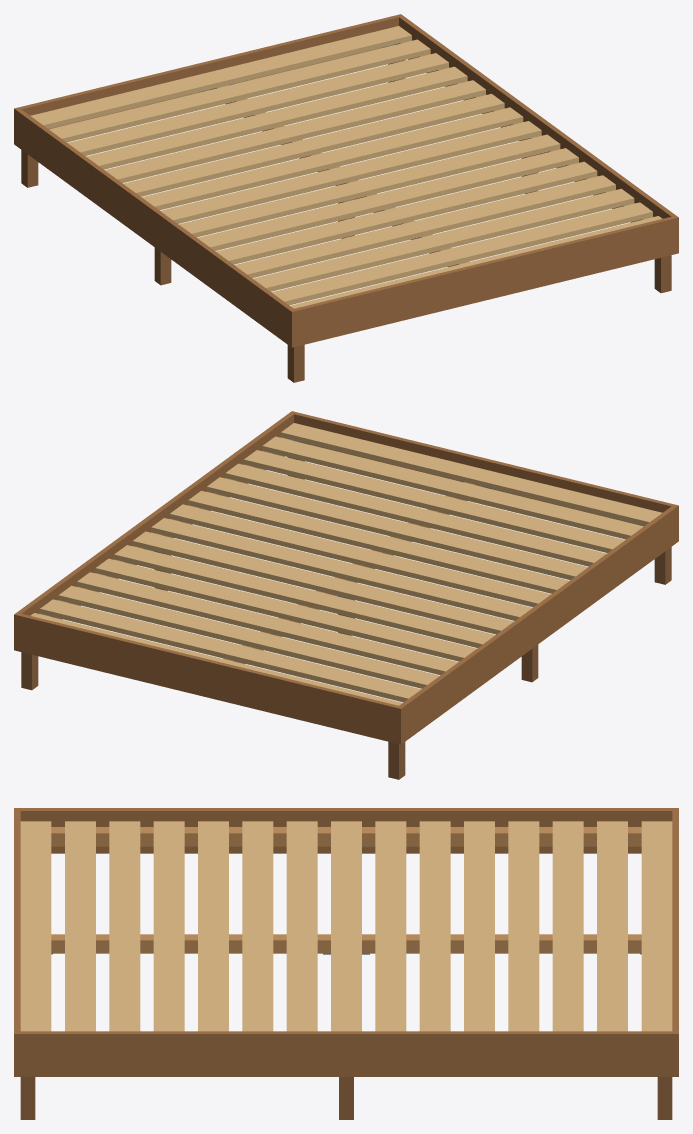
3 views of the same model, one above another, from view 1: azimuth 30°, elevation 25°; view 2: azimuth 150°, elevation 25°; view 3: azimuth 270°, elevation 25° (orthographic). The views are drawn at different scales.
Visible parts, largest first — view 1: Board_End_S, Board_Side_W, Board_End_N, Board_Side_E, Slat_E_05, Slat_E_12, Slat_E_07, Slat_E_03, Slat_E_06, Slat_E_09, Slat_E_11, Slat_E_14 (+26 smaller); view 2: Board_End_N, Board_Side_W, Board_End_S, Board_Side_E, Slat_E_11, Slat_E_04, Slat_E_09, Slat_E_13, Slat_E_02, Slat_E_05, Slat_E_07, Slat_E_10 (+26 smaller); view 3: Board_Side_E, Board_Side_W, Beam_Side_W, Beam_Center, Slat_W_03, Slat_W_04, Slat_W_06, Slat_W_07, Slat_W_09, Slat_W_10, Slat_W_12, Slat_W_13 (+27 smaller).
Boxes of the visible parts, x1,y1,x2,y2 form: Board_End_S: (289,215,678,347); Board_Side_W: (16,109,293,345); Board_End_N: (14,14,402,145); Board_Side_E: (399,16,675,222); Slat_E_05: (396,161,597,221); Slat_E_12: (266,66,467,126); Slat_E_07: (359,134,560,194); Slat_E_03: (433,188,634,248); Slat_E_06: (377,148,578,208); Slat_E_09: (322,107,523,167); Slat_E_11: (284,80,485,140); Slat_E_14: (229,39,430,99); Board_End_N: (14,612,403,744); Board_Side_W: (399,506,676,742); Board_End_S: (290,411,678,542); Board_Side_E: (17,413,293,619); Slat_E_11: (95,558,296,618); Slat_E_04: (225,463,426,523); Slat_E_09: (132,531,333,591); Slat_E_13: (58,585,259,645); Slat_E_02: (262,436,463,496); Slat_E_05: (207,477,408,537); Slat_E_07: (169,504,370,564); Slat_E_10: (114,545,315,605); Board_Side_E: (20,1031,672,1076); Board_Side_W: (20,808,672,853); Beam_Side_W: (51,827,641,846); Beam_Center: (51,934,641,953); Slat_W_03: (109,821,140,931); Slat_W_04: (153,821,184,931); Slat_W_06: (242,821,273,931); Slat_W_07: (286,821,317,931); Slat_W_09: (375,821,406,931); Slat_W_10: (419,821,450,931); Slat_W_12: (508,821,539,931); Slat_W_13: (552,821,583,931).
Size of the model in its own units: 1.64 by 0.3 by 2.04.
